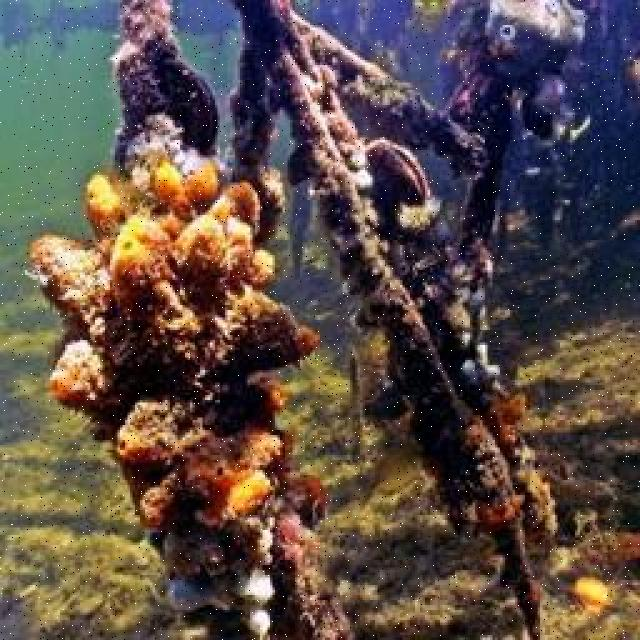reefs: (229, 0, 591, 638), (29, 159, 320, 414), (115, 397, 281, 529), (116, 6, 221, 182)
